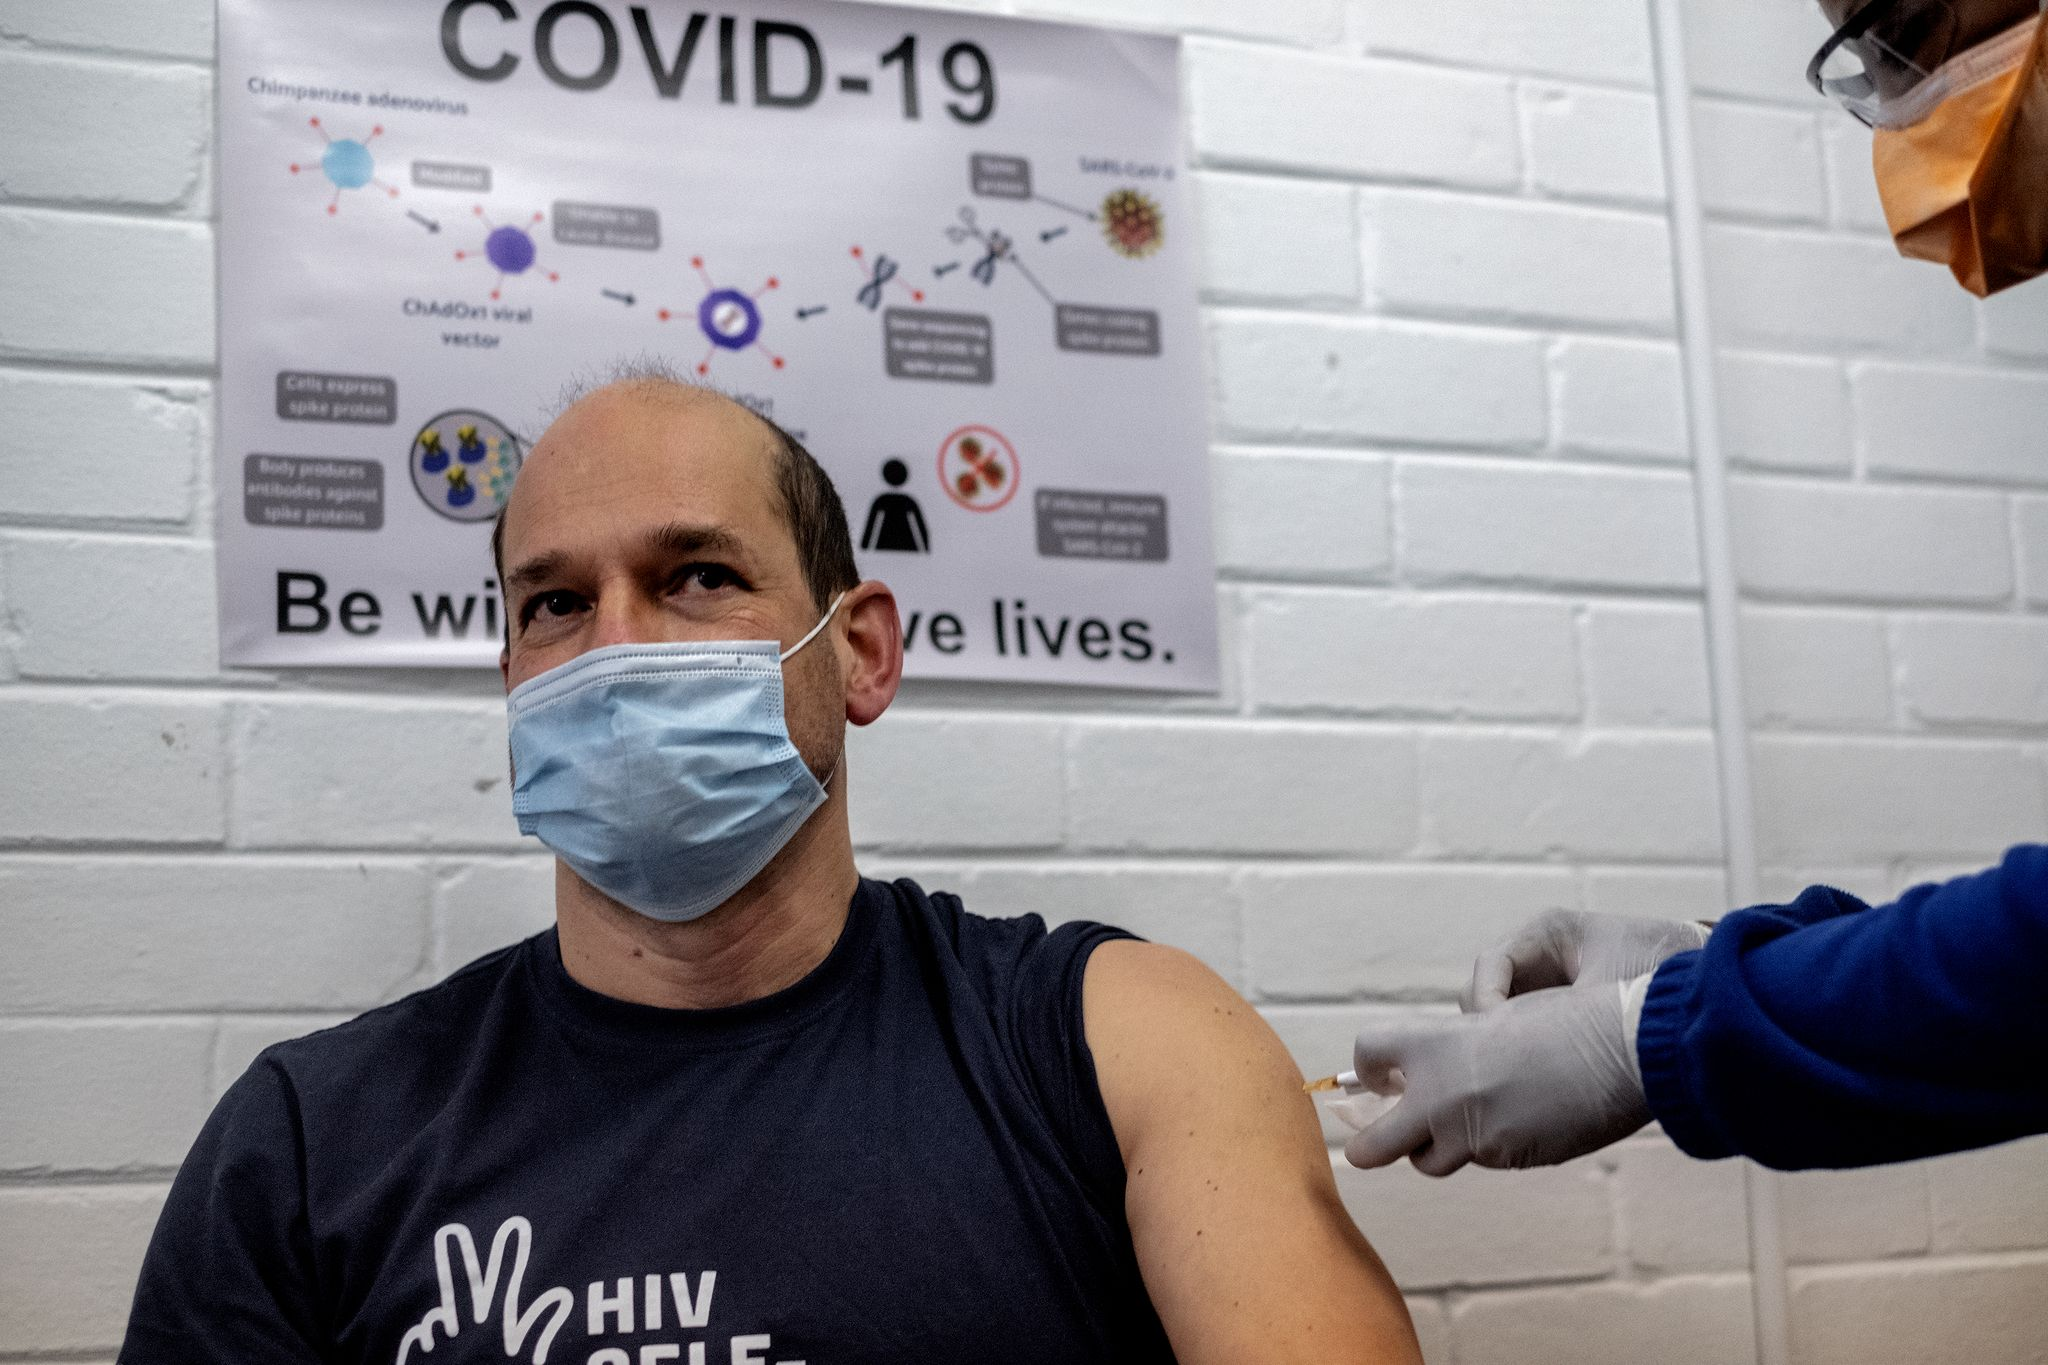with_mask: (514, 505, 827, 873)
